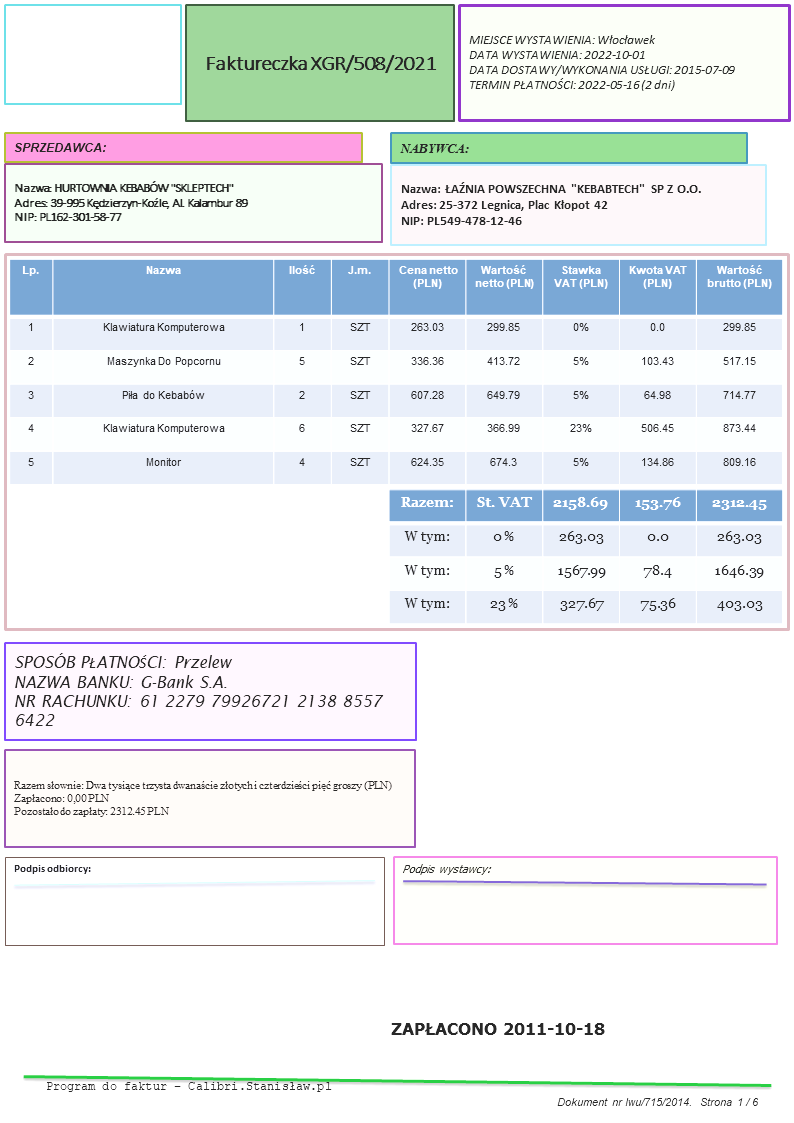Table: (7, 257, 782, 485), (386, 486, 781, 626)
TextBox: (11, 649, 389, 735), (8, 776, 398, 824), (463, 30, 739, 97), (397, 177, 707, 233), (8, 178, 254, 227), (199, 49, 437, 78), (383, 1014, 610, 1042), (42, 1076, 335, 1096), (552, 1090, 763, 1112), (398, 857, 493, 883), (8, 137, 108, 158), (7, 859, 94, 880), (395, 137, 469, 157)
